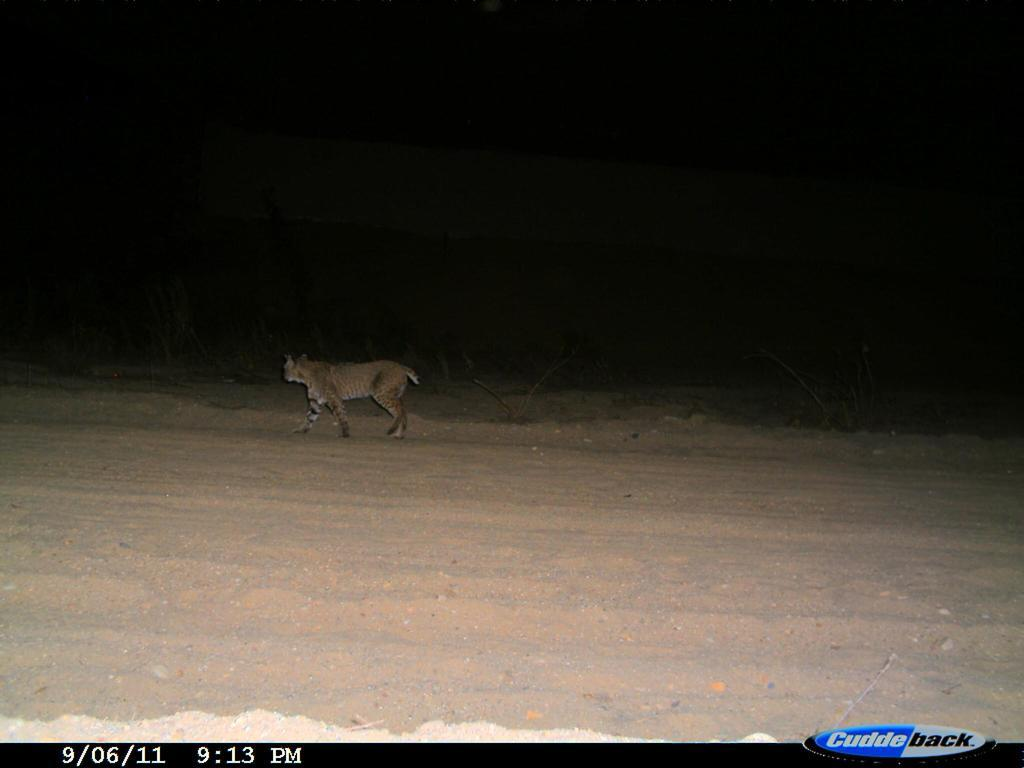bobcat: (278, 346, 431, 452)
